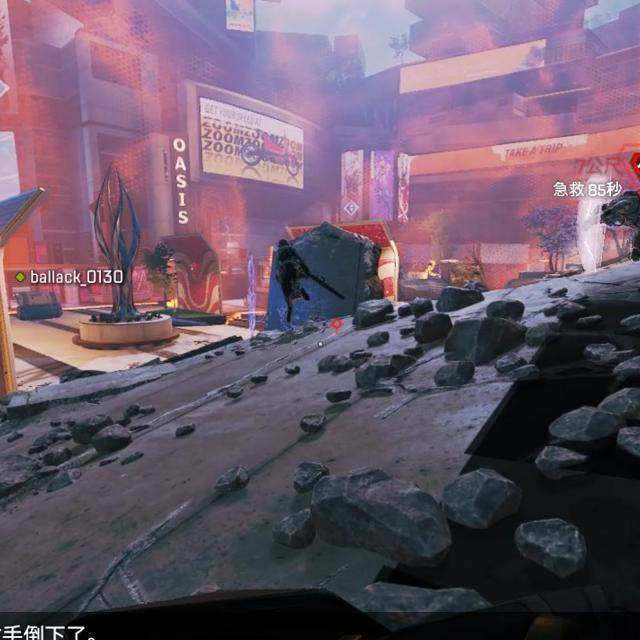avatar: (273, 235, 314, 328)
